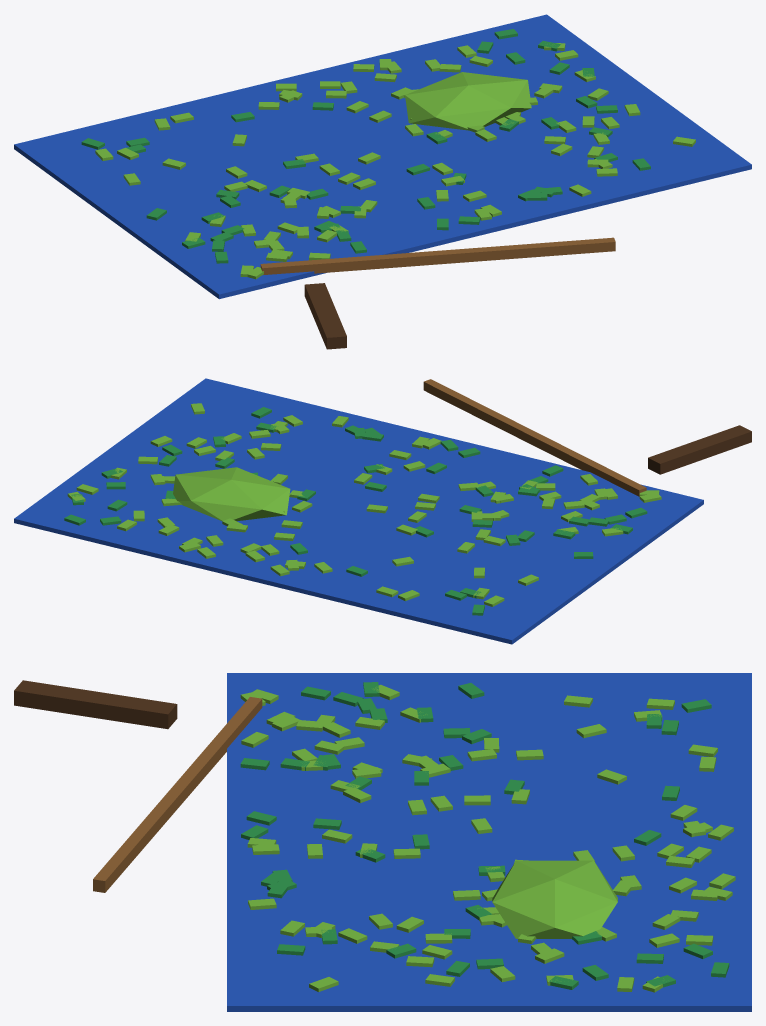
The model's file is Secadero de coca.fbx.
3 renders of one model, top to bottom at view 1: azimuth 30°, elevation 25°; view 2: azimuth 150°, elevation 25°; view 3: azimuth 270°, elevation 25°, orthographic. The views are drawn at different scales.
Parts seen in each view (by area): view 1: Secadero de coca; view 2: Secadero de coca; view 3: Secadero de coca.
Boxes of the visible parts, x1,y1,x2,y2 form: Secadero de coca: (14,14,751,349); Secadero de coca: (14,378,751,644); Secadero de coca: (14,673,751,1011).
Size of the model in its own units: 2.4 by 0.14 by 2.25.
